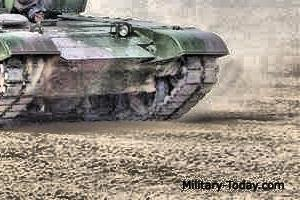tanks: (1, 1, 228, 126)
